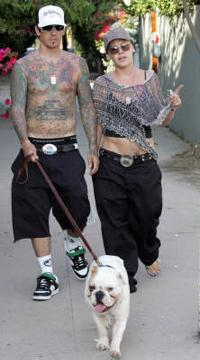person: (9, 6, 99, 301)
